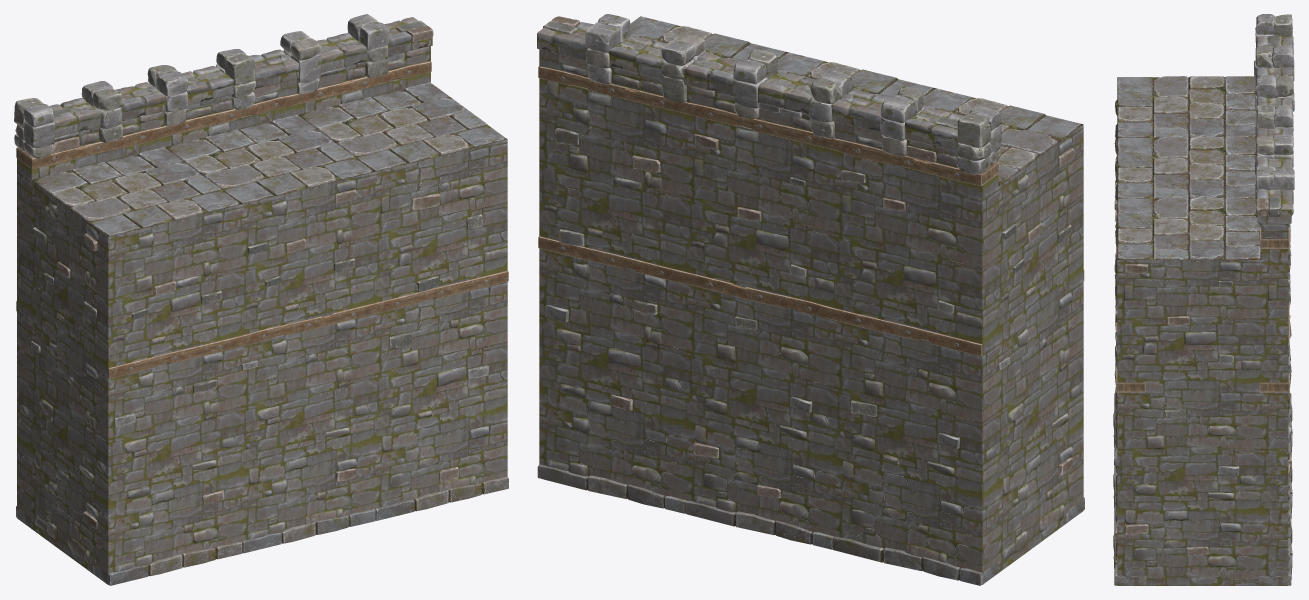
The picture shows the model from 3 angles, left to right: view 1: azimuth 30°, elevation 25°; view 2: azimuth 150°, elevation 25°; view 3: azimuth 270°, elevation 25°; orthographic projection. The views are drawn at different scales.
Visible parts, largest first — view 1: SM_Castle_Wall_4x12_01_v5_LOD0; view 2: SM_Castle_Wall_4x12_01_v5_LOD0; view 3: SM_Castle_Wall_4x12_01_v5_LOD0.
Boxes of the visible parts, x1,y1,x2,y2 form: SM_Castle_Wall_4x12_01_v5_LOD0: (14, 14, 508, 585); SM_Castle_Wall_4x12_01_v5_LOD0: (537, 14, 1084, 585); SM_Castle_Wall_4x12_01_v5_LOD0: (1113, 14, 1294, 585).
Bounding box in the file's own units: 12.2 × 12 × 5.04.
6 materials, 6 textured.
